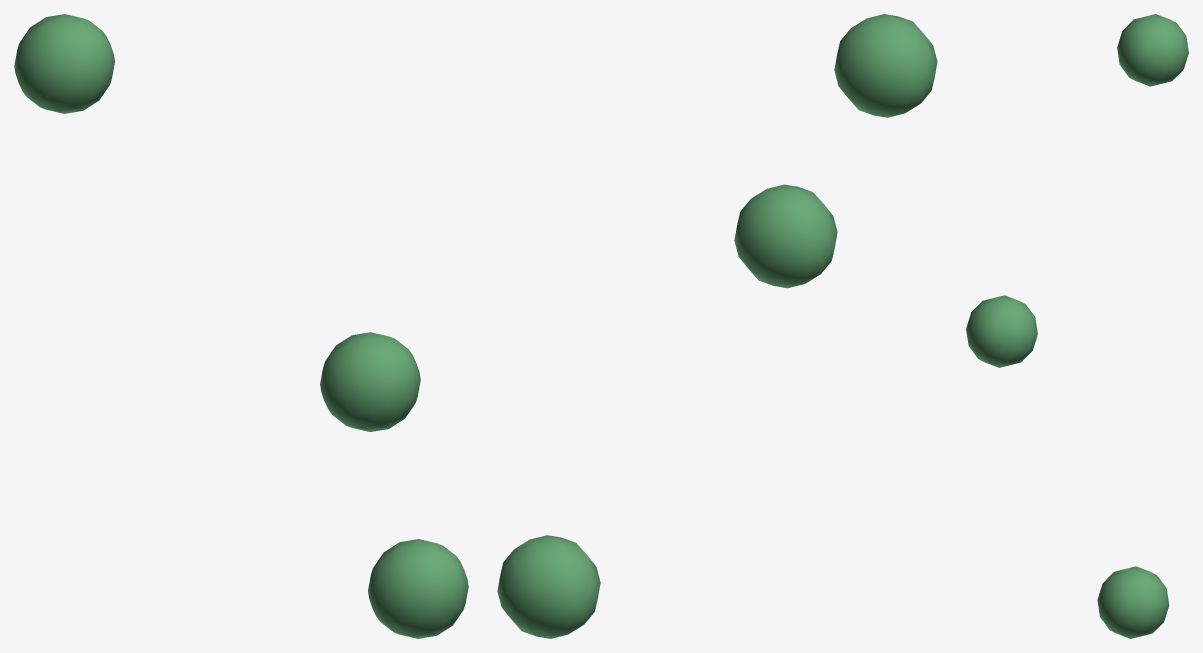
The picture shows the model from 3 angles, left to right: view 1: azimuth 30°, elevation 25°; view 2: azimuth 150°, elevation 25°; view 3: azimuth 270°, elevation 25°; orthographic projection. The views are drawn at different scales.
Visible parts, largest first — view 1: 脾淋巴结; view 2: 脾淋巴结; view 3: 脾淋巴结.
Part boxes in pixels (x1=…): 脾淋巴结: x1=14, y1=14, x2=468, y2=638; 脾淋巴结: x1=497, y1=14, x2=937, y2=638; 脾淋巴结: x1=966, y1=14, x2=1188, y2=638.
Size of the model in its own units: 0.0187 by 0.0288 by 0.0117.
